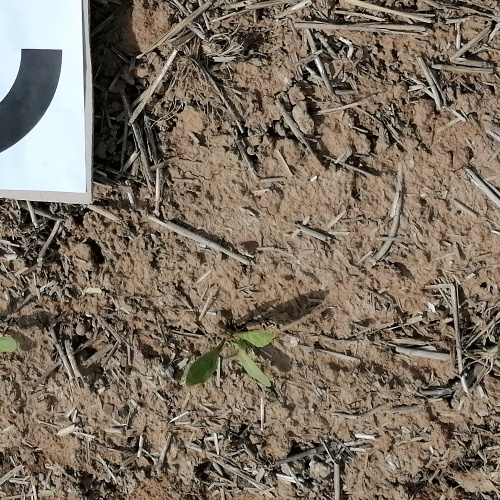beet: (185, 329, 275, 389), (0, 336, 17, 354)
